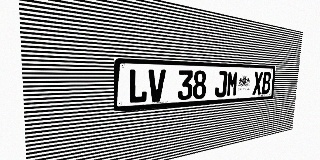3: (177, 70, 193, 100)
8: (192, 70, 207, 99)
B: (261, 72, 271, 94)
J: (214, 71, 228, 98)
L: (128, 69, 148, 104)
M: (226, 71, 239, 97)
V: (148, 69, 166, 102)
X: (252, 71, 263, 95)
